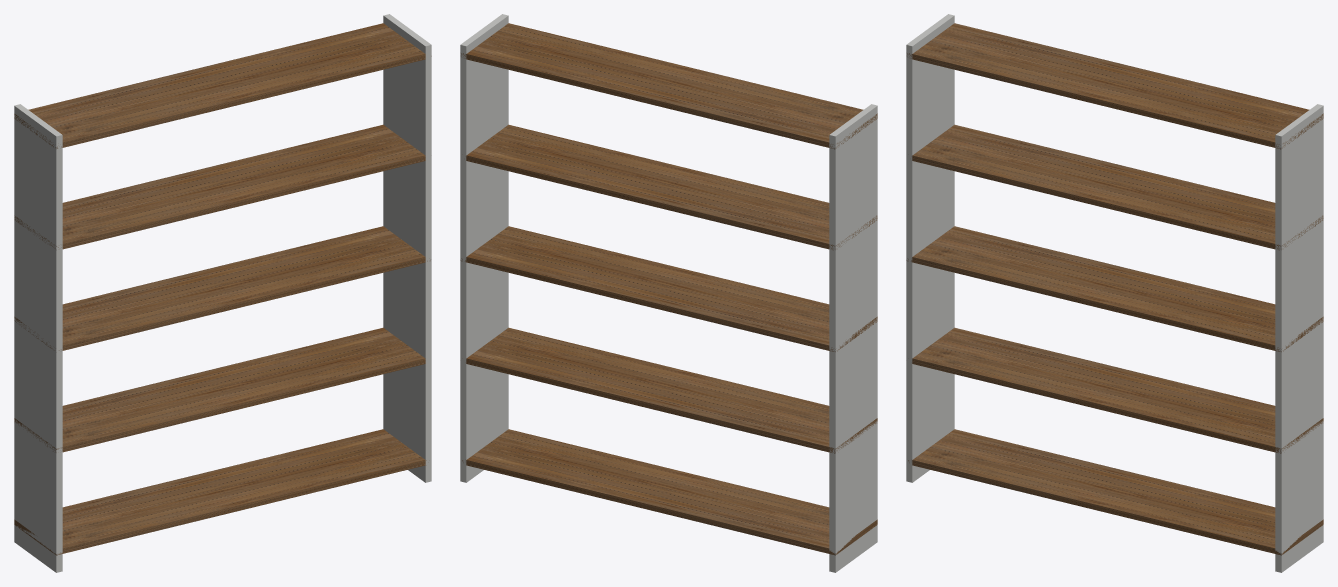
Rendered from prateleiras_dml.glb.
The picture shows the model from 3 angles, left to right: view 1: azimuth 30°, elevation 25°; view 2: azimuth 150°, elevation 25°; view 3: azimuth 330°, elevation 25°; orthographic projection.
Visible parts, largest first — view 1: prateleiras_dml; view 2: prateleiras_dml; view 3: prateleiras_dml.
Part boxes in pixels (bbox=[...]): prateleiras_dml: bbox=[14, 14, 431, 572]; prateleiras_dml: bbox=[460, 14, 877, 572]; prateleiras_dml: bbox=[906, 14, 1323, 572].
Size of the model in its own units: 1.8 by 2 by 0.35.
2 materials, 1 textured.
